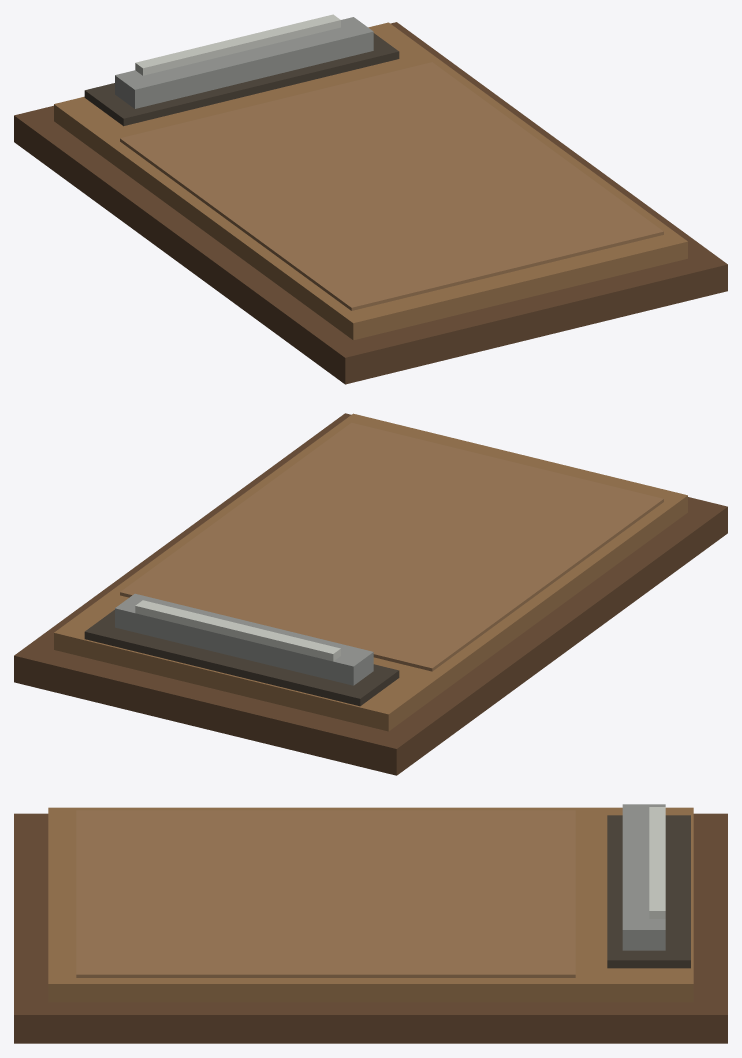
File: CMU3DBareClipboard.glb
3 views of the same model, one above another, from view 1: azimuth 30°, elevation 25°; view 2: azimuth 150°, elevation 25°; view 3: azimuth 270°, elevation 25° (orthographic). The views are drawn at different scales.
Parts seen in each view (by area): view 1: bare board panel, clipboard backing, clipboard front, metal spring clip, clip dark mounting plate, spring clip highlight; view 2: bare board panel, clipboard backing, clipboard front, metal spring clip, clip dark mounting plate, spring clip highlight; view 3: bare board panel, clipboard backing, clipboard front, clip dark mounting plate, metal spring clip, spring clip highlight.
Part boxes in pixels (left/top/right/bottom): bare board panel: left=120, top=62, right=663, bottom=310; clipboard backing: left=14, top=22, right=727, bottom=384; clipboard front: left=54, top=22, right=687, bottom=340; metal spring clip: left=115, top=17, right=373, bottom=108; clip dark mounting plate: left=84, top=33, right=399, bottom=126; spring clip highlight: left=135, top=14, right=340, bottom=75; bare board panel: left=120, top=422, right=663, bottom=671; clipboard backing: left=14, top=413, right=727, bottom=775; clipboard front: left=54, top=413, right=687, bottom=731; metal spring clip: left=115, top=593, right=373, bottom=685; clip dark mounting plate: left=84, top=610, right=399, bottom=706; spring clip highlight: left=135, top=600, right=340, bottom=661; bare board panel: left=76, top=810, right=575, bottom=977; clipboard backing: left=14, top=813, right=727, bottom=1043; clipboard front: left=48, top=807, right=693, bottom=1002; clip dark mounting plate: left=607, top=815, right=690, bottom=968; metal spring clip: left=622, top=804, right=665, bottom=950; spring clip highlight: left=649, top=807, right=665, bottom=918.
Size of the model in its own units: 0.375 by 0.073 by 0.562.
